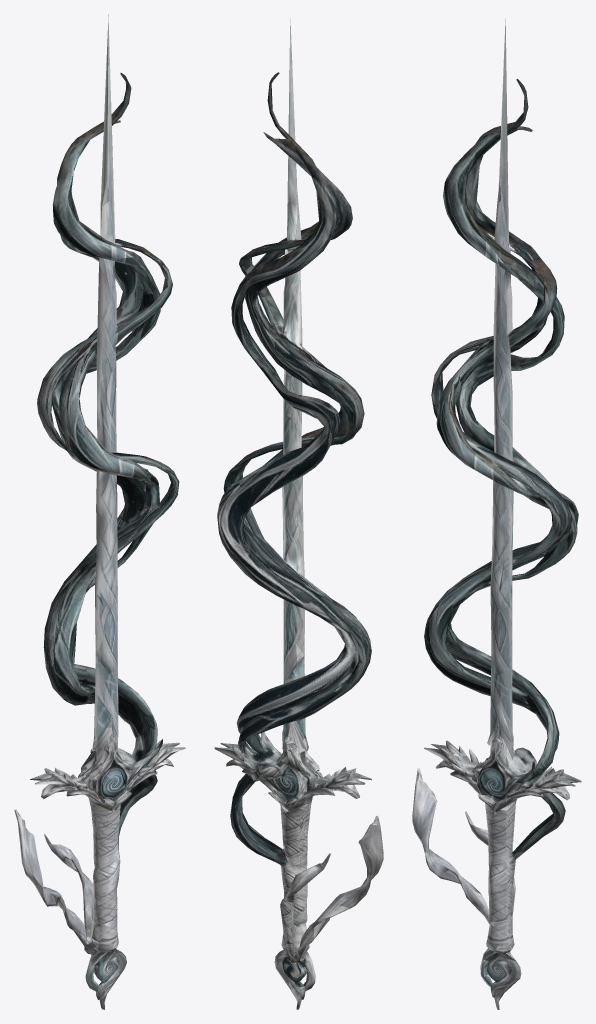
File: sword-wind.glb
The picture shows the model from 3 angles, left to right: view 1: azimuth 30°, elevation 25°; view 2: azimuth 150°, elevation 25°; view 3: azimuth 330°, elevation 25°; orthographic projection.
Visible parts, largest first — view 1: Motion_Control; view 2: Motion_Control; view 3: Motion_Control.
Part boxes in pixels (x1,y1,x2,y2): Motion_Control: (14, 14, 185, 1009); Motion_Control: (214, 18, 383, 1009); Motion_Control: (412, 18, 581, 1009).
Bounding box in the file's own units: 0.3459 × 2 × 0.1661.
1 material, 1 textured.
